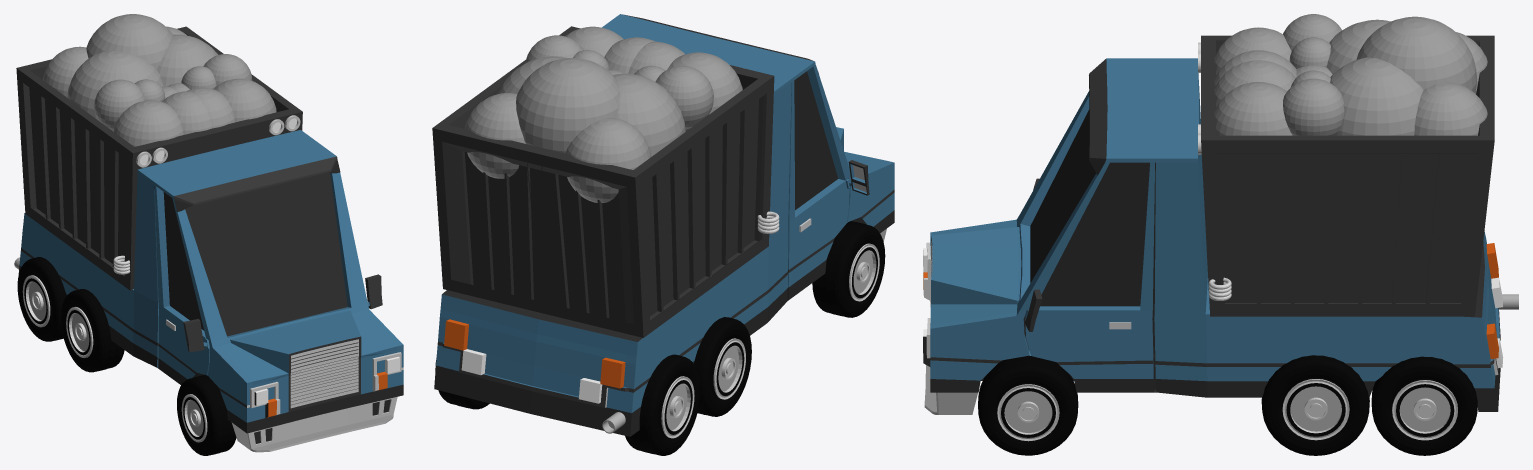
The model's file is CR-CAR-9B.fbx.
3 renders of one model, left to right at view 1: azimuth 30°, elevation 25°; view 2: azimuth 150°, elevation 25°; view 3: azimuth 270°, elevation 25°, orthographic. The views are drawn at different scales.
Parts seen in each view (by area): view 1: BODY, WHEEL.006, WHEEL.001, WHEEL.004, Sphere; view 2: BODY, Sphere, WHEEL.001, WHEEL.004, WHEEL.006, WHEEL.002; view 3: BODY, WHEEL.005, WHEEL.002, WHEEL.003, Sphere.
Boxes of the visible parts, x1=… form: BODY: x1=16, y1=26, x2=403, y2=452; WHEEL.006: x1=61, y1=289, x2=124, y2=372; WHEEL.001: x1=177, y1=375, x2=236, y2=455; WHEEL.004: x1=17, y1=257, x2=66, y2=341; Sphere: x1=86, y1=14, x2=172, y2=69; BODY: x1=432, y1=14, x2=894, y2=436; Sphere: x1=516, y1=58, x2=619, y2=153; WHEEL.001: x1=812, y1=221, x2=885, y2=317; WHEEL.004: x1=625, y1=354, x2=700, y2=455; WHEEL.006: x1=694, y1=317, x2=751, y2=416; WHEEL.002: x1=435, y1=360, x2=489, y2=409; BODY: x1=923, y1=14, x2=1503, y2=414; WHEEL.005: x1=1261, y1=355, x2=1369, y2=455; WHEEL.002: x1=1371, y1=356, x2=1477, y2=455; WHEEL.003: x1=978, y1=355, x2=1078, y2=455; Sphere: x1=1356, y1=16, x2=1477, y2=93.
Size of the model in its own units: 117 by 172 by 244.
